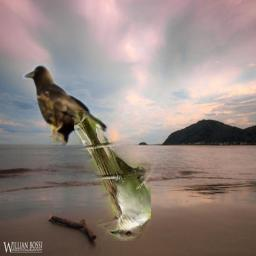Crow: (22, 62, 110, 156)
Cuckoo: (74, 111, 151, 241)
